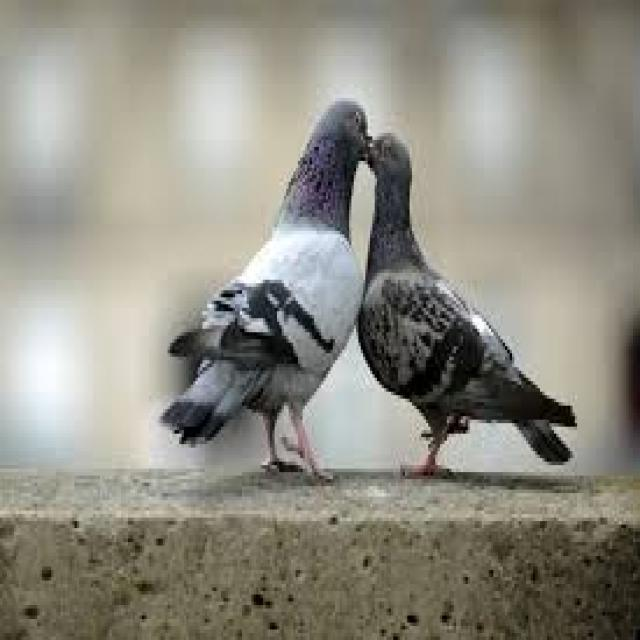pigeon: (166, 70, 375, 466)
